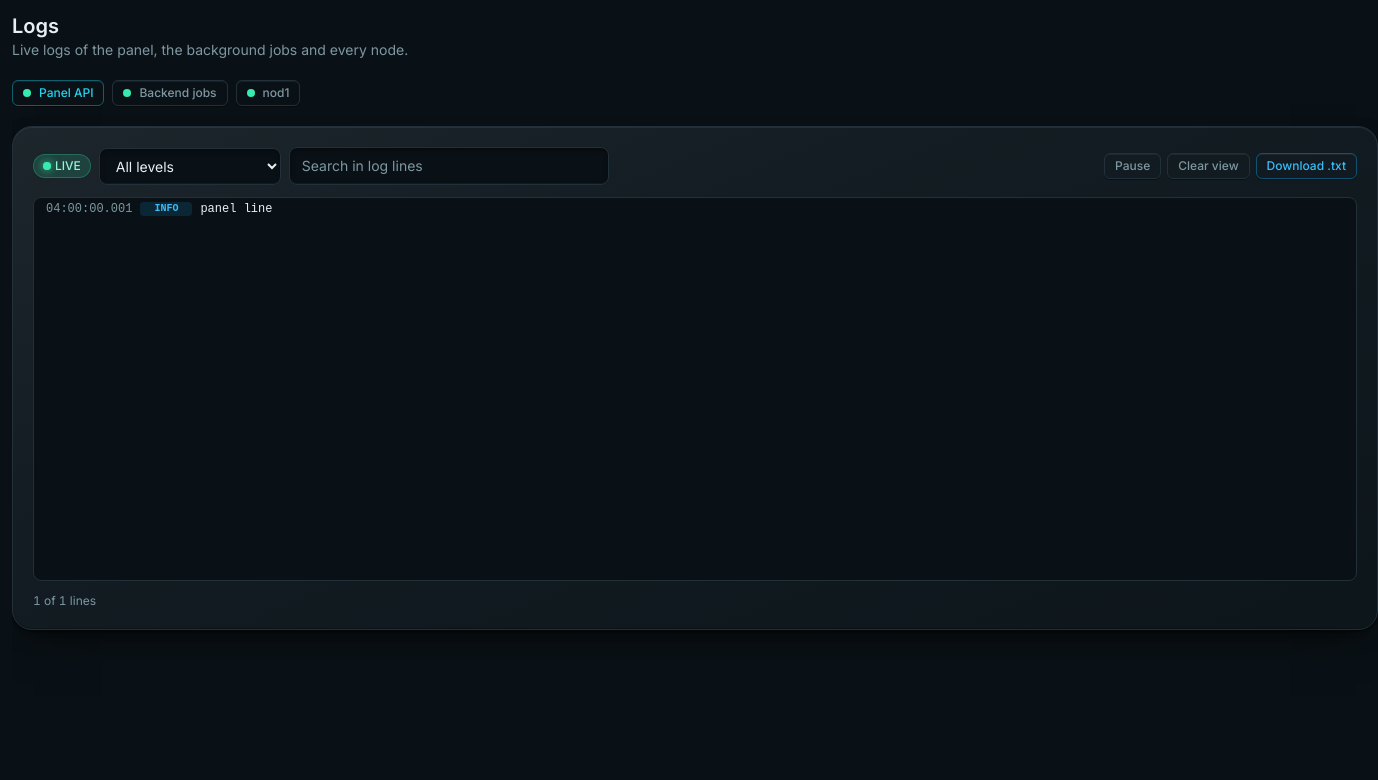
Scenario: Logs toolbar › switches source: resets the view, starts from after=0 and stops asking for the old one
Check: the text "panel line" is shown, box [200,203,272,215]
Step 1. Click the button "nod1" → (268, 93), box [236,80,300,106]
Wait 6000 ms
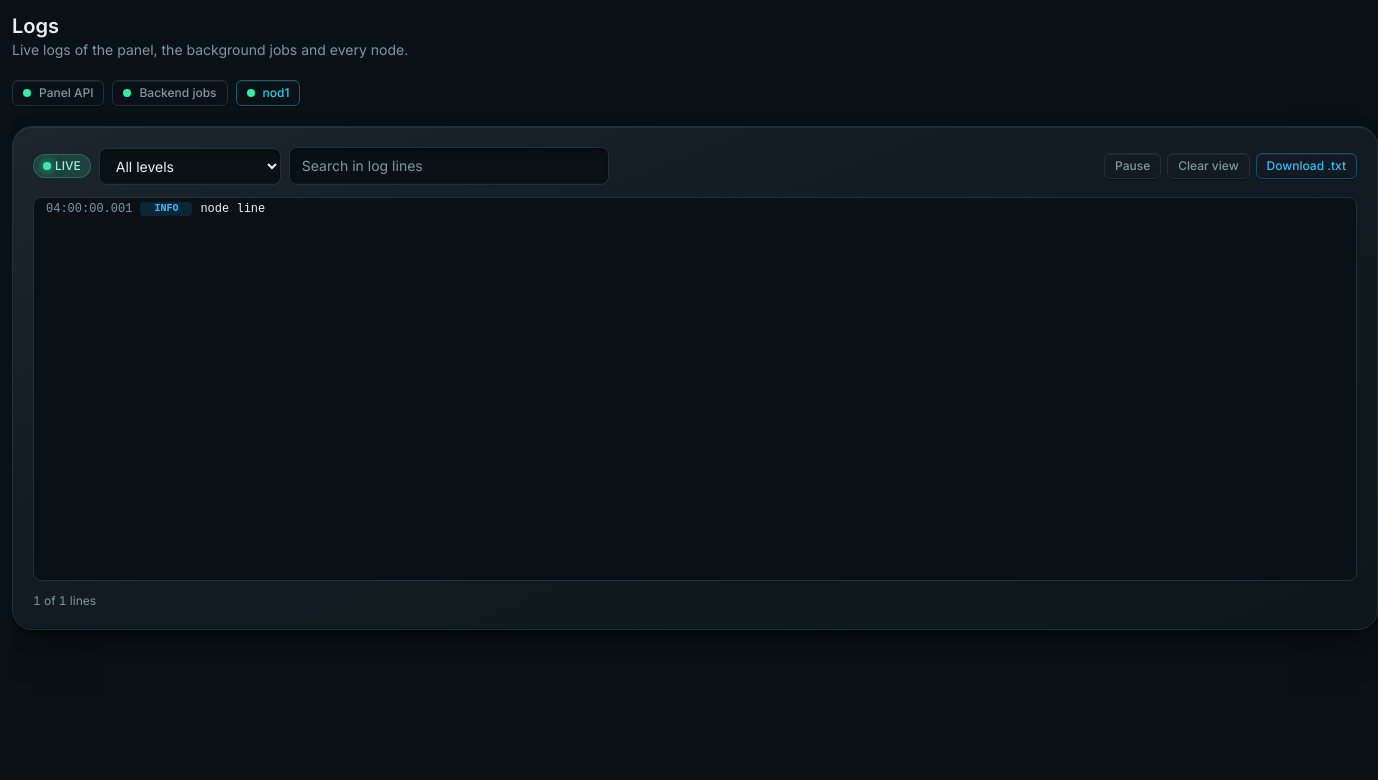
Check: the text "node line" is shown, box [200,203,265,215]
Check: the text "panel line" is gone
